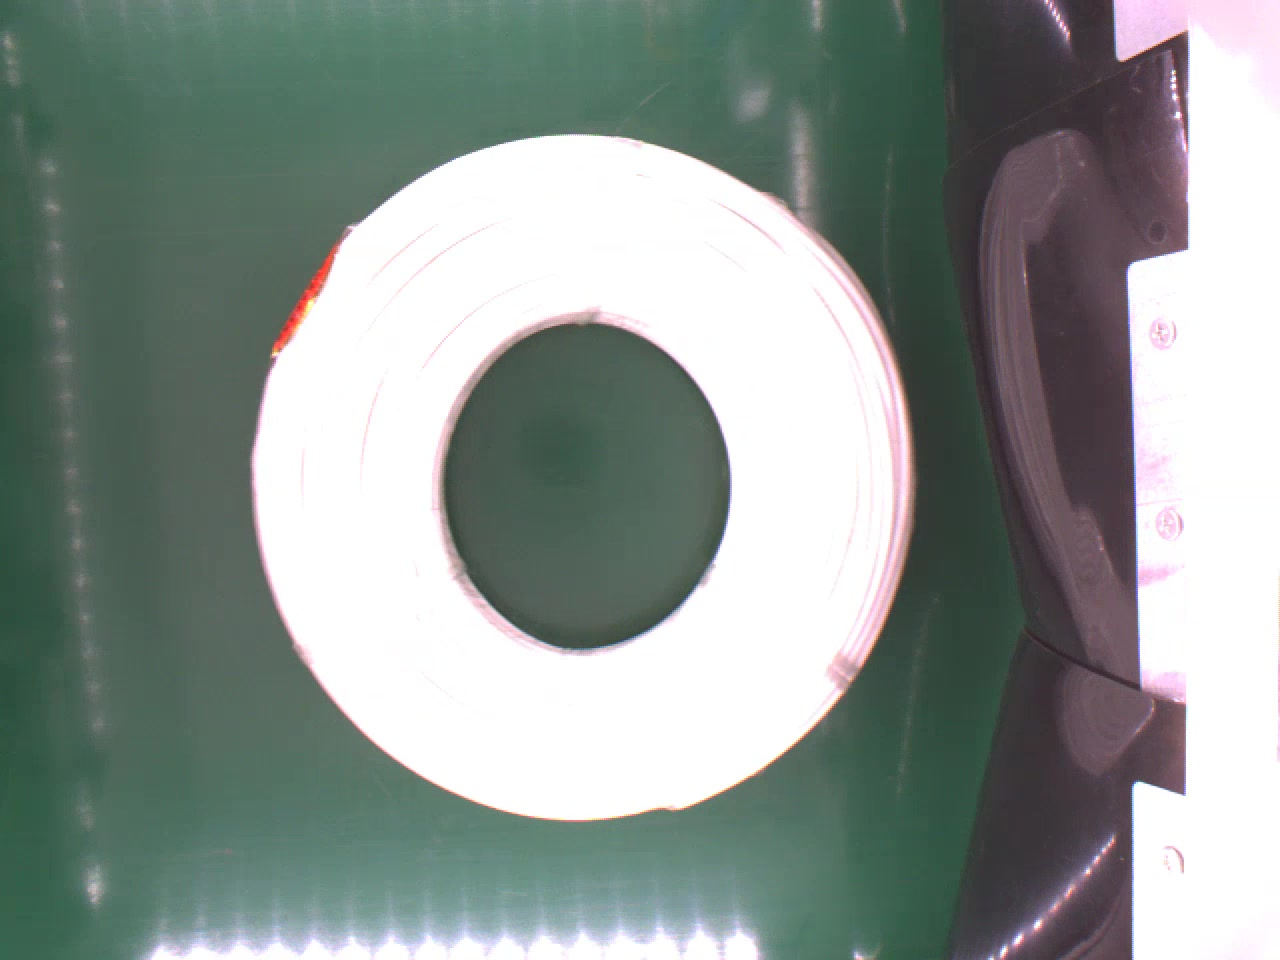white: (242, 132, 917, 821)
